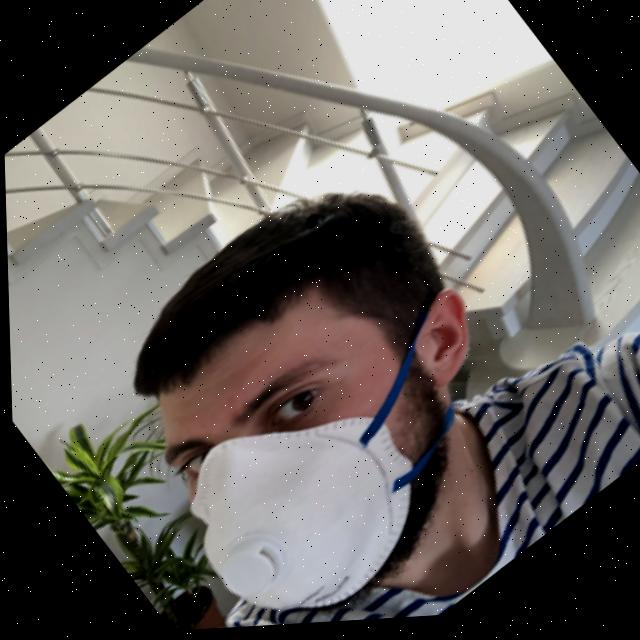Mask: (145, 261, 574, 634)
